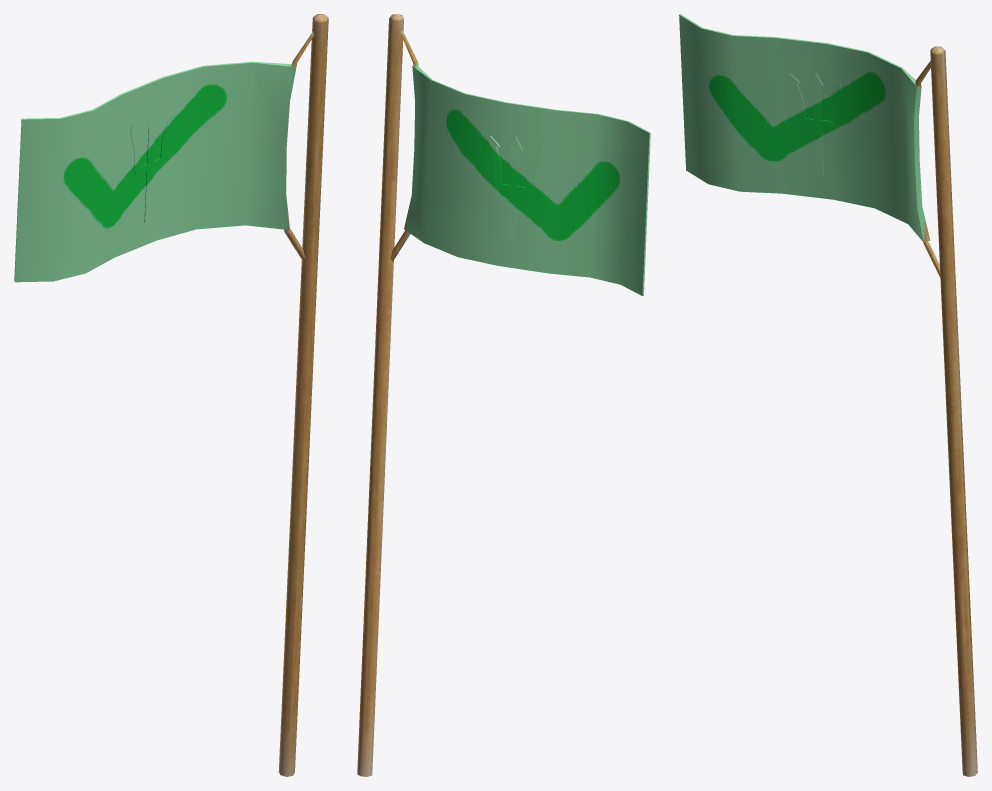
The model's file is Flag.fbx.
3 renders of one model, left to right at view 1: azimuth 30°, elevation 25°; view 2: azimuth 150°, elevation 25°; view 3: azimuth 330°, elevation 25°, orthographic. The views are drawn at different scales.
Visible parts, largest first — view 1: node_id54, node_id52, node_id56; view 2: node_id54, node_id52, node_id56; view 3: node_id54, node_id52, node_id56.
Boxes of the visible parts, x1,y1,x2,y2 form: node_id54: [14, 31, 313, 282]; node_id52: [278, 14, 328, 776]; node_id56: [130, 110, 174, 222]; node_id54: [390, 30, 650, 295]; node_id52: [357, 14, 403, 776]; node_id56: [490, 136, 541, 244]; node_id54: [679, 14, 940, 277]; node_id52: [930, 46, 977, 776]; node_id56: [789, 73, 840, 176].
Size of the model in its own units: 0.1986 by 0.5108 by 0.0493.
Materials: 3 (3 with a texture image).
